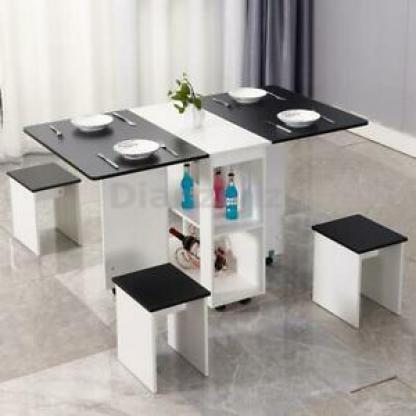chair: (99, 263, 221, 397), (302, 207, 411, 336), (2, 162, 87, 257)
table: (28, 82, 350, 311)
